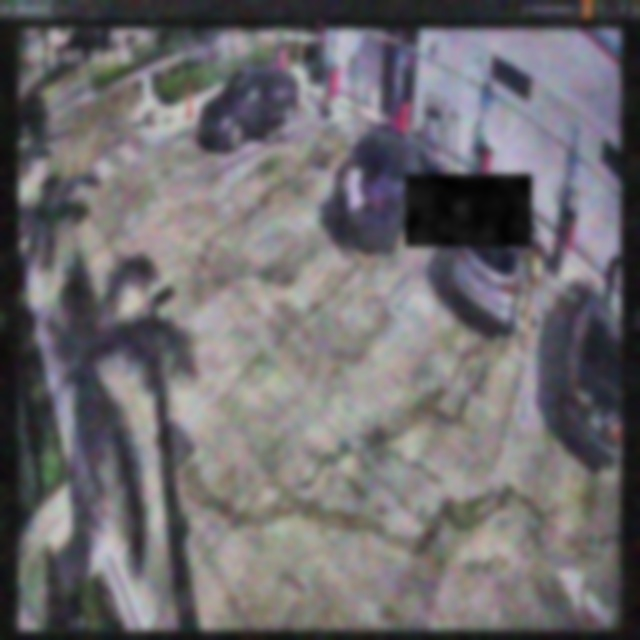Car: (335, 127, 443, 250), (455, 192, 533, 326), (193, 65, 298, 147)
